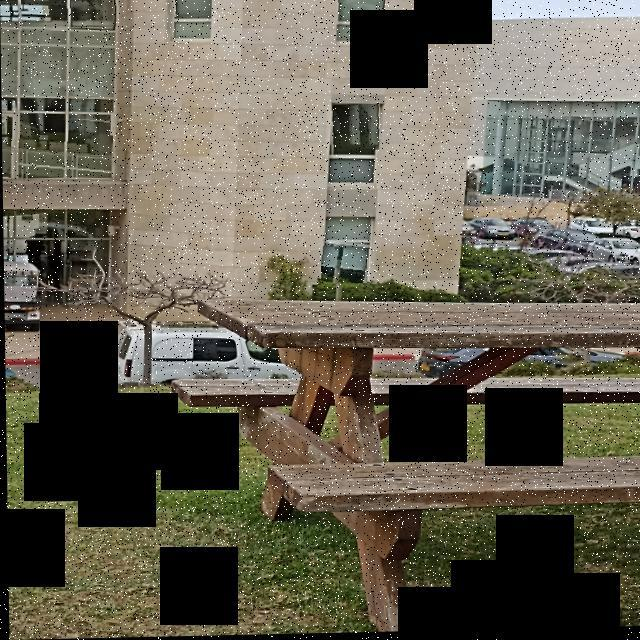Window: (2, 113, 112, 179), (0, 0, 119, 32), (326, 106, 380, 156), (320, 240, 370, 286), (329, 0, 384, 26), (165, 0, 209, 19)
